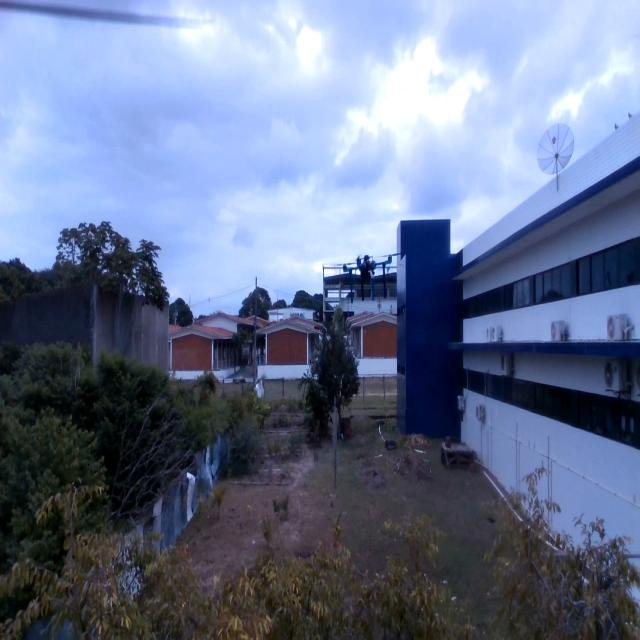-uav-: (336, 243, 394, 308)
